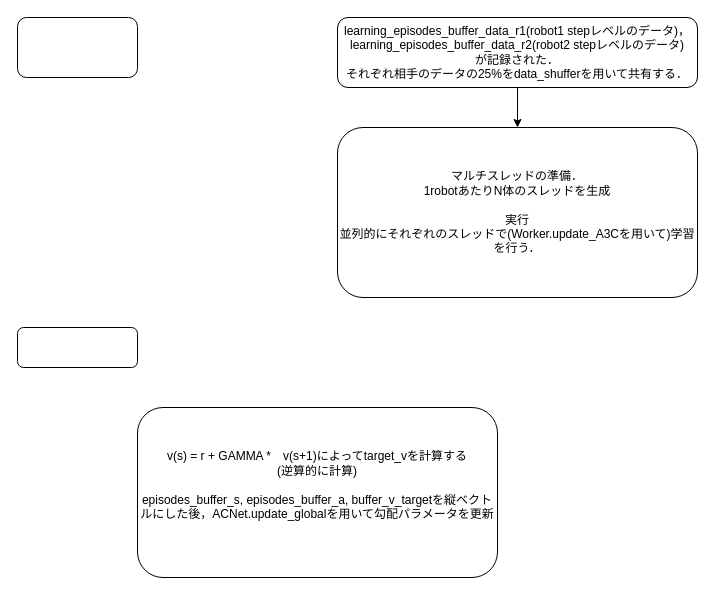
Some shapes in this 715 by 595 pixel diagram are drawn without their labels. Each missing label, with the centre of its shape:
"Worker.update_A3C" goes at pixel 77 347.
"学習を行う" goes at pixel 77 47.
